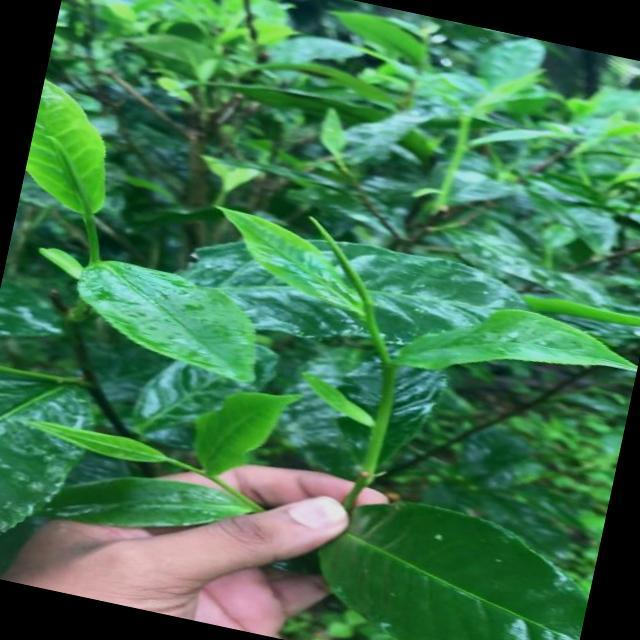Stem: (381, 368, 395, 407), (86, 219, 98, 242), (459, 122, 470, 142), (213, 477, 230, 489)
